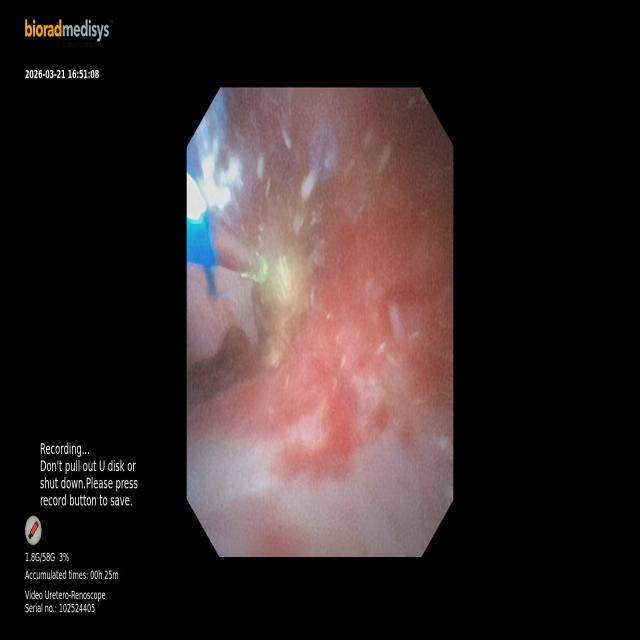laser-fibre: (213, 220, 261, 280)
laser_dot: (275, 256, 292, 298)
stone-new: (251, 242, 310, 367), (188, 325, 253, 411)
